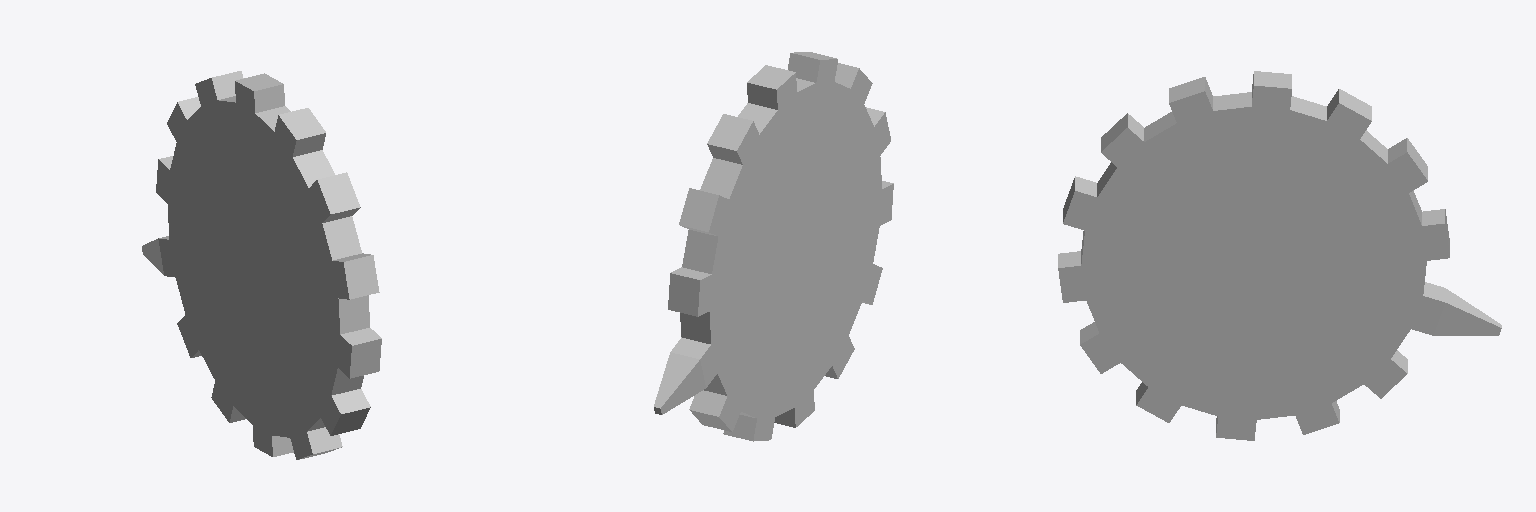
The model's file is gear_000015.obj.
The picture shows the model from 3 angles: view 1: azimuth 30°, elevation 25°; view 2: azimuth 150°, elevation 25°; view 3: azimuth 270°, elevation 25°; orthographic projection.
Visible parts, largest first — view 1: gear_Cylinder.001; view 2: gear_Cylinder.001; view 3: gear_Cylinder.001.
Part boxes in pixels (bbox=[...]): gear_Cylinder.001: bbox=[142, 71, 381, 459]; gear_Cylinder.001: bbox=[654, 52, 893, 441]; gear_Cylinder.001: bbox=[1058, 71, 1501, 440].
Bounding box in the file's own units: 0.1 × 1.13 × 1.28.